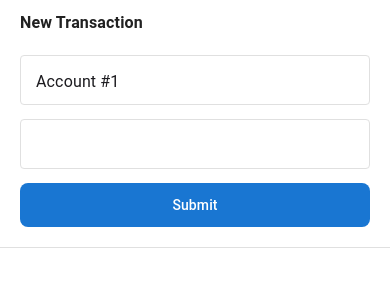
Scenario: TransactionForm › shows validation error for non-numeric amount
Type "abc" into the field with test id "amount-input" at [195, 145], box x1=20 y1=121 x2=370 y2=169
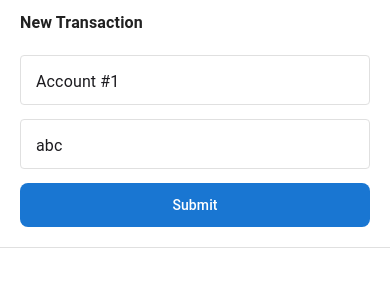
Click the button with test id "submit-button" at [195, 205], box x1=20 y1=185 x2=370 y2=225
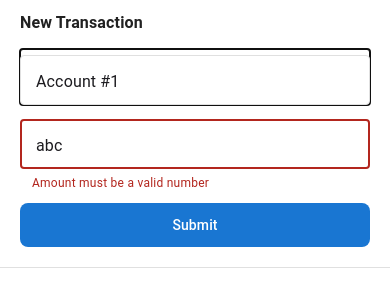
Check: the text with test id "amount-error" shows "valid number", box x1=32 y1=176 x2=209 y2=190
